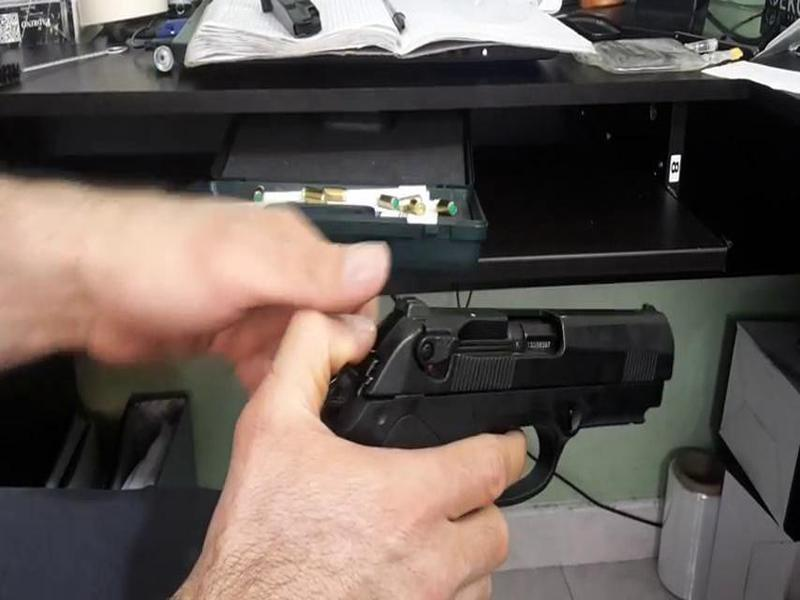Pistola: (261, 272, 691, 524)
